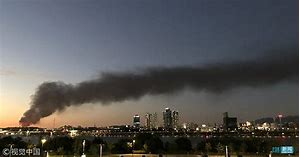smoke: (17, 60, 248, 126)
